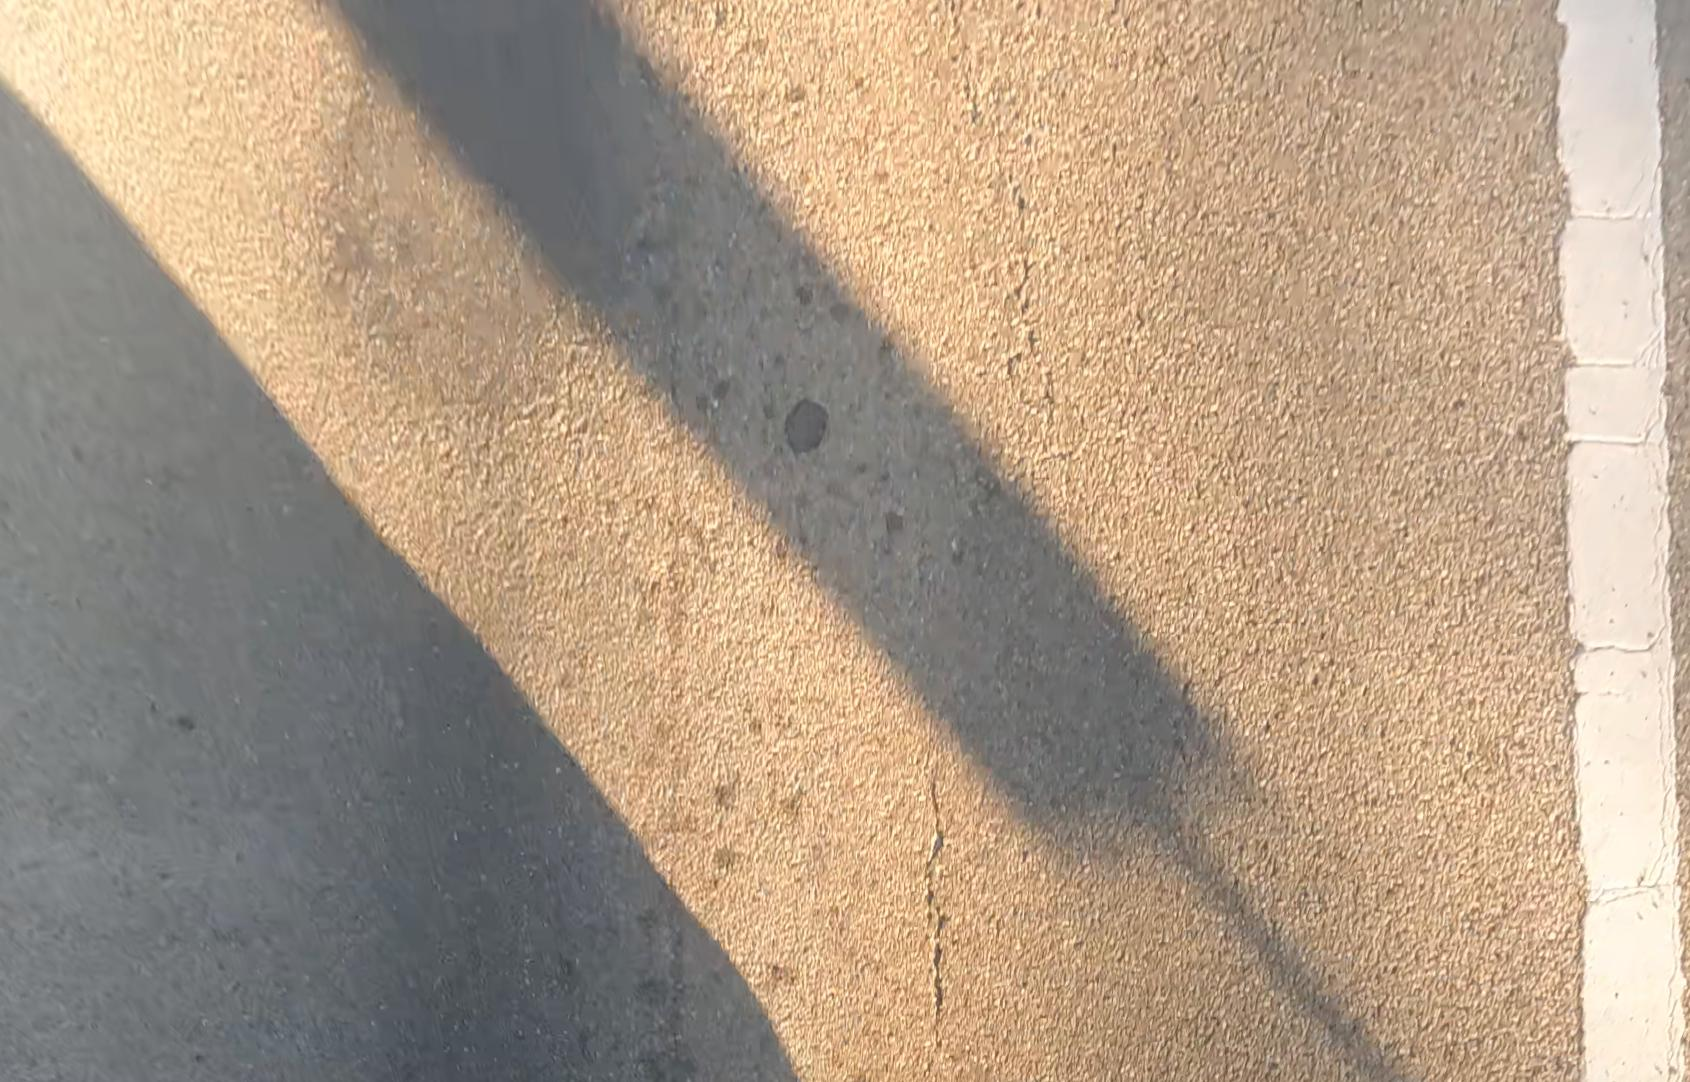pothole_patch_good: (301, 0, 675, 402), (785, 399, 829, 452)
